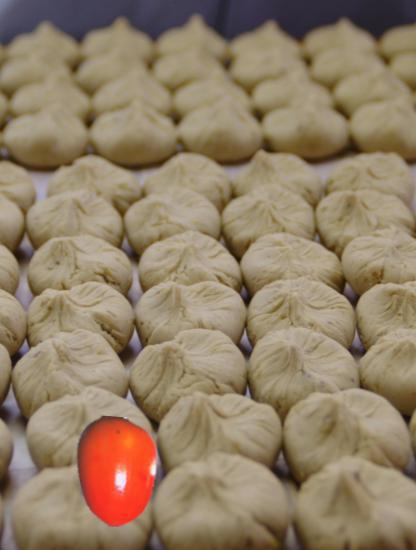Kaki: (61, 417, 171, 527)
